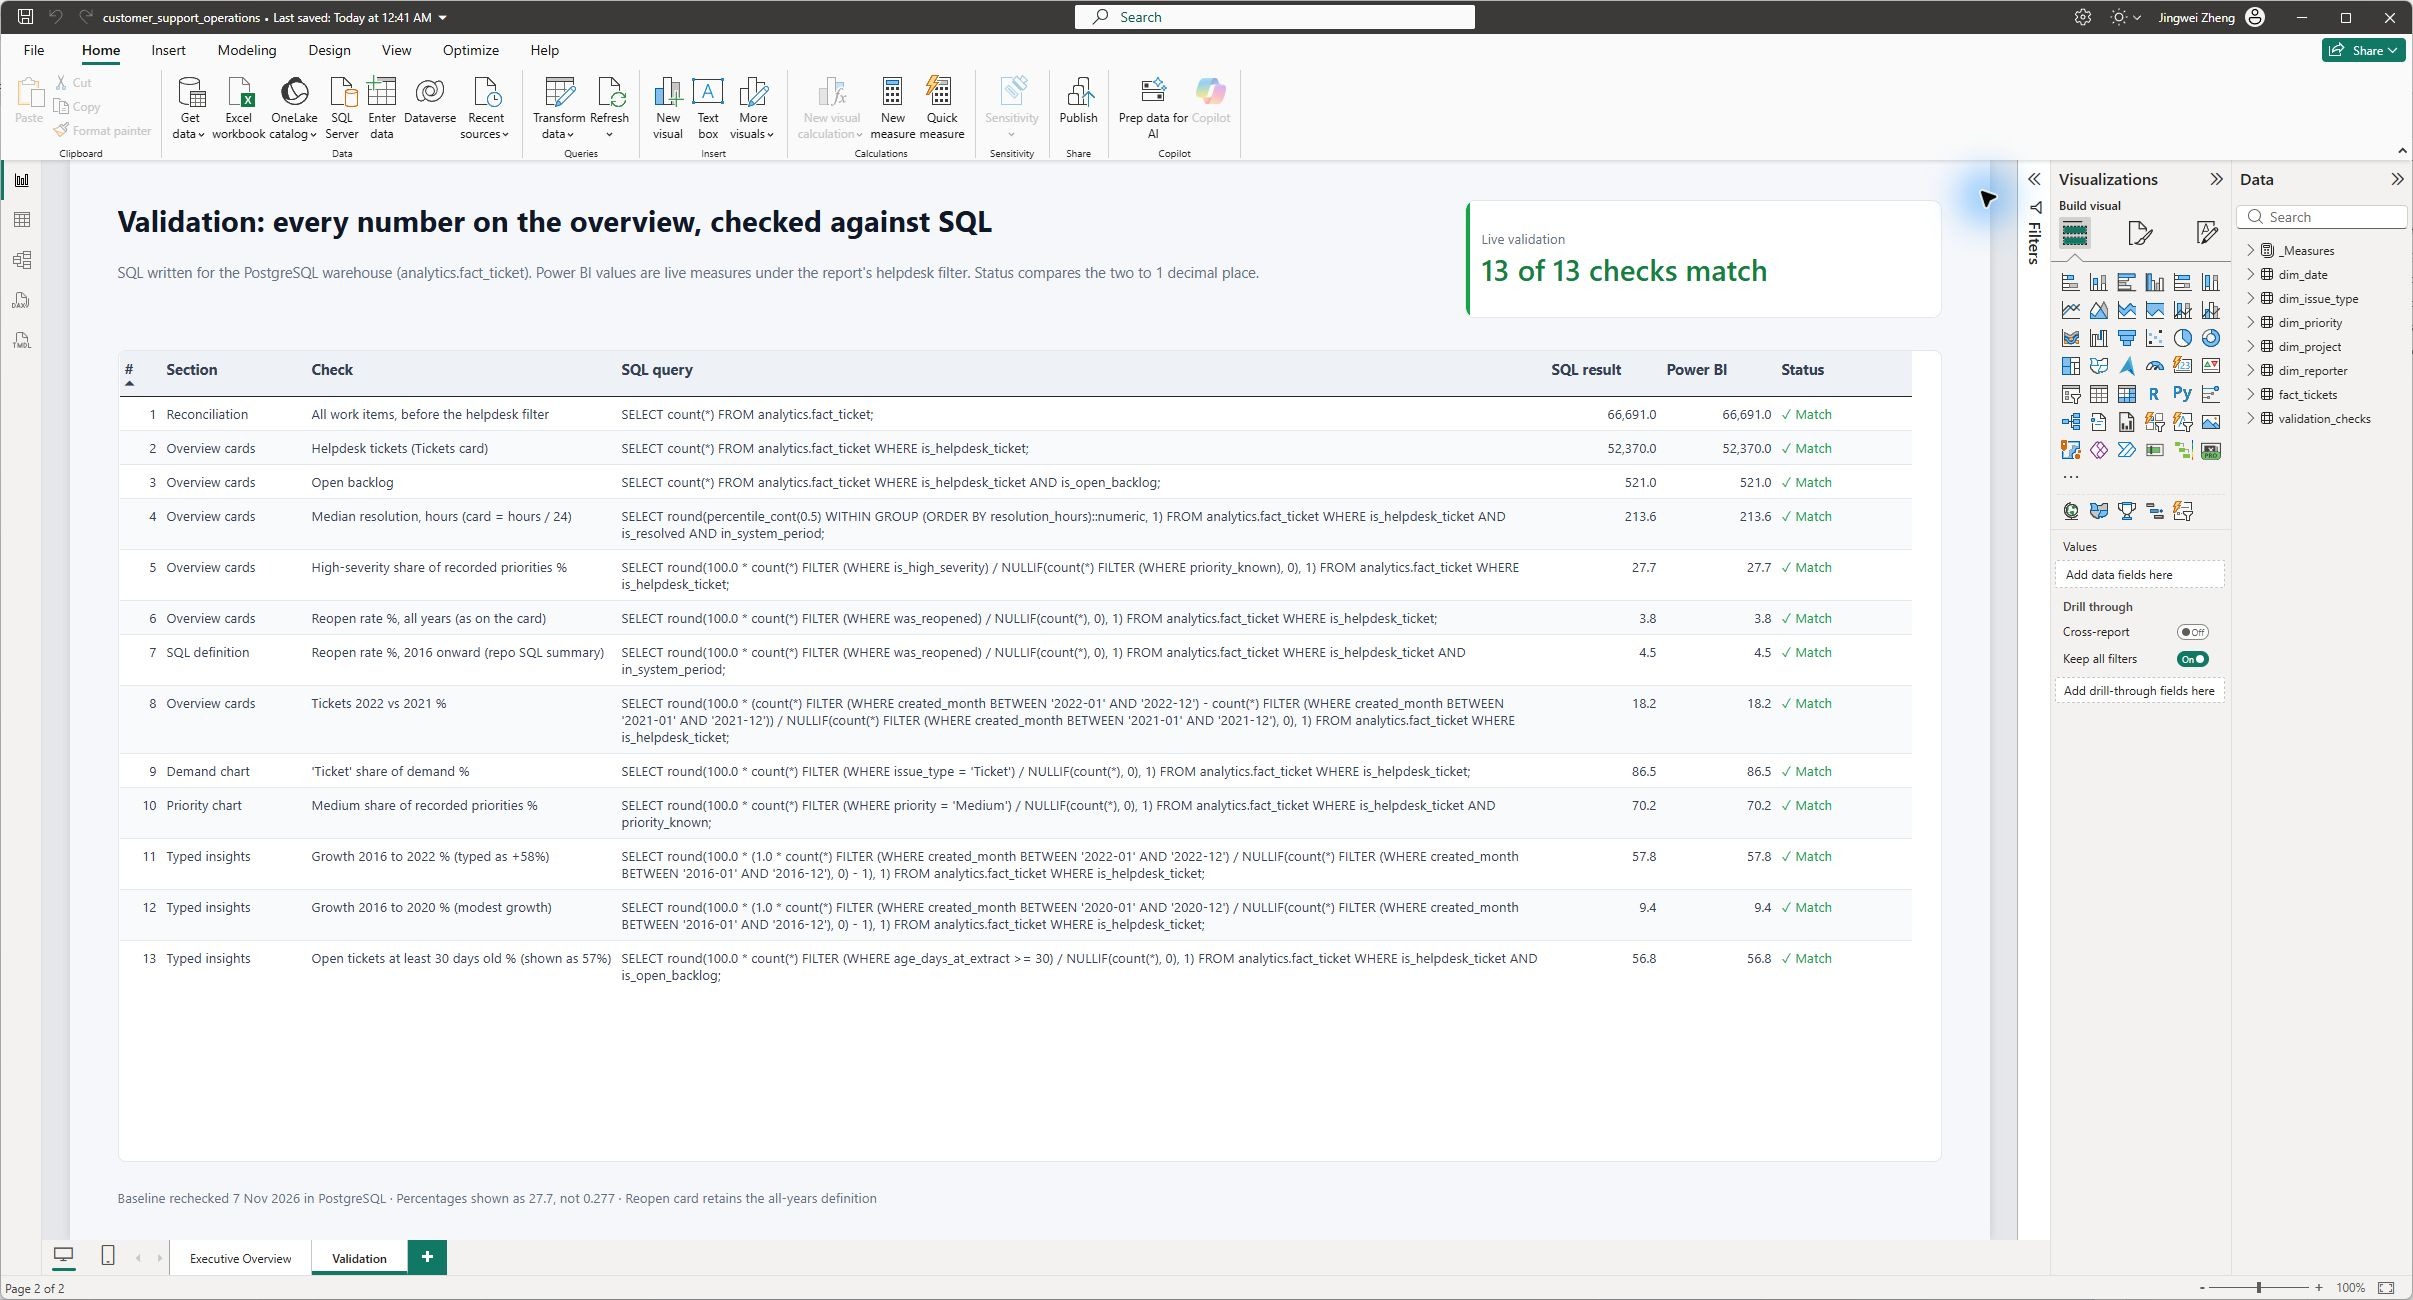

Layout of this report page (visuals, bound fields, positions):
{"tool":"powerbi","page":{"name":"Validation","canvas":[1920,1080],"ordinal":1},"visuals":[{"type":"textbox","box":[48,40,1305,49],"z":1000},{"type":"textbox","box":[48,102,1310,65],"z":1000},{"type":"textbox","box":[48,1028,1824,30],"z":1000},{"type":"cardVisual","fields":{"Data":["_Measures.Checks Passed"]},"box":[1395,40,477,118],"z":2000},{"type":"tableEx","fields":{"Values":["validation_checks.check_id","validation_checks.section","validation_checks.check","validation_checks.sql_query","validation_checks.sql_result","_Measures.Power BI Value","_Measures.Check Status"]},"box":[48,190,1824,812],"z":3000}]}

Visuals, with their boxes on the page's 1920x1080 design canvas (x1, y1, x2, y2). These are canvas units, not pixel positions in the 2413x1300 screenshot, which may show the page scaled, cropped or inside an application window:
textbox: 48 40 1353 89
textbox: 48 102 1358 167
textbox: 48 1028 1872 1058
cardVisual - _Measures.Checks Passed: 1395 40 1872 158
tableEx - validation_checks.check_id x validation_checks.section: 48 190 1872 1002
